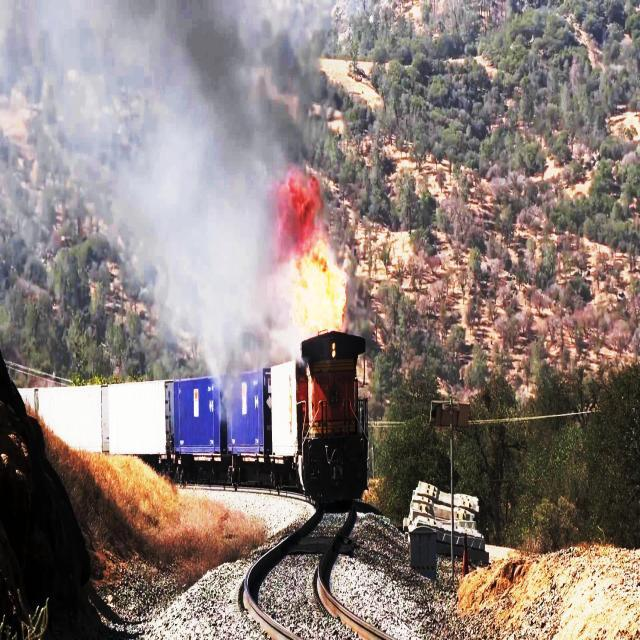Fire: (275, 174, 350, 328)
Smoke: (143, 0, 266, 268)
